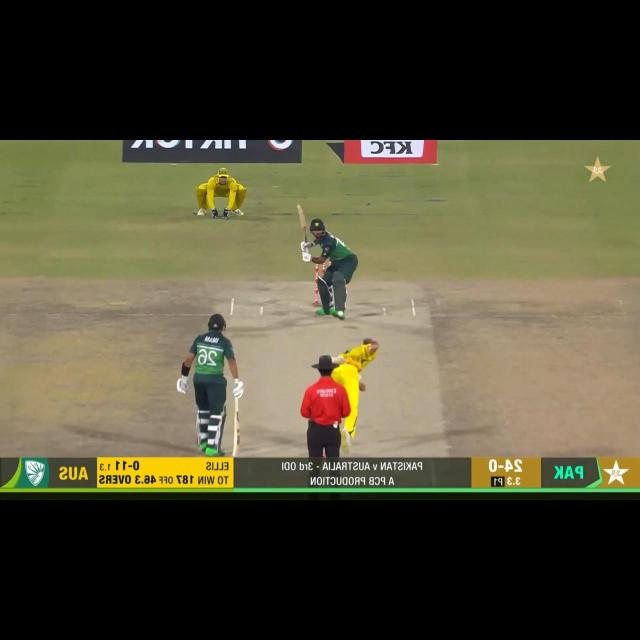bat: (292, 202, 312, 247), (230, 411, 244, 456)
toe: (230, 446, 244, 458), (292, 201, 304, 214)
